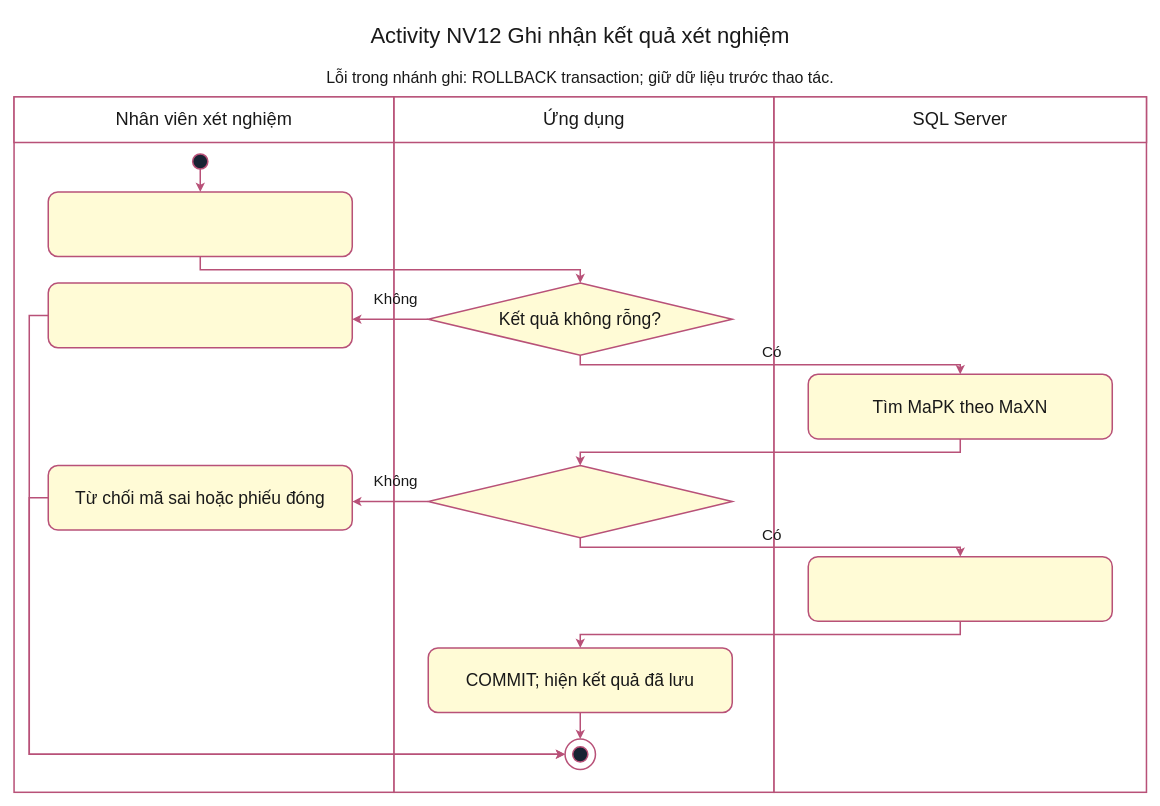
This 1160x806 diagram has some shape labels left out. Here are the shapes that lost their labels. From the top down, the box of each, then its label:
(47, 191, 353, 257): Chọn xét nghiệm; nhập kết quả
(47, 282, 353, 348): Yêu cầu nhập kết quả
(427, 464, 733, 538): Xét nghiệm tồn tại phiếu Đang khám?
(807, 556, 1113, 622): UPDATE KetQua theo MaXN
